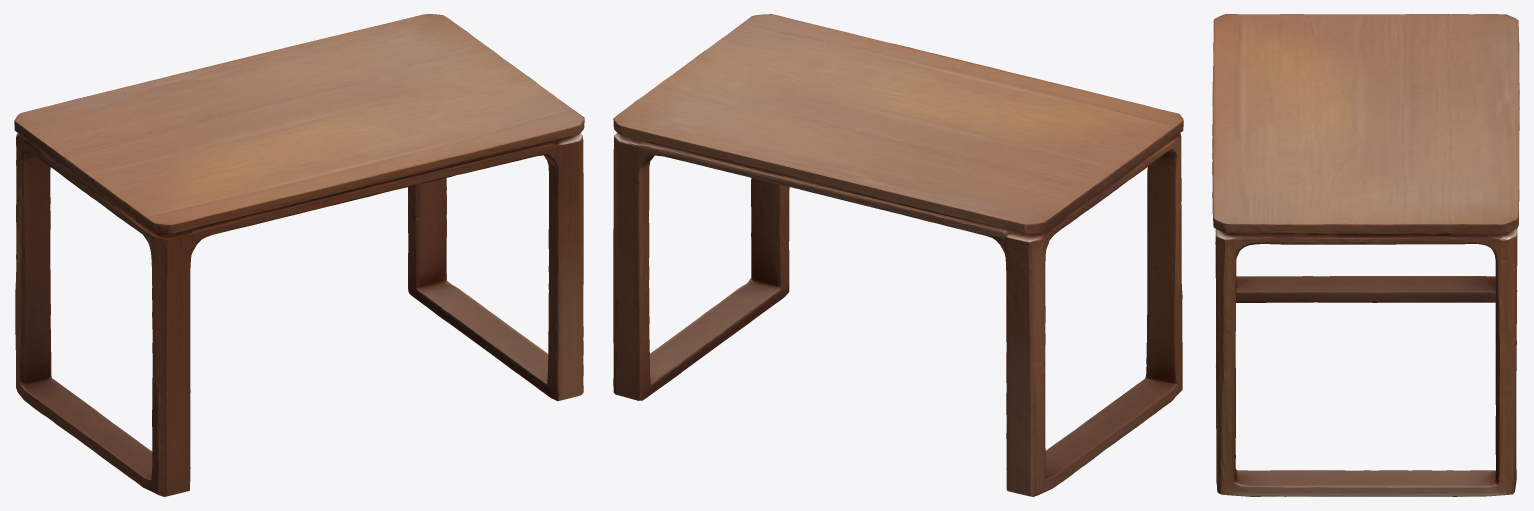
Rendered from ast_9e221dde2c78.glb.
3 views of the same model, side by side, from view 1: azimuth 30°, elevation 25°; view 2: azimuth 150°, elevation 25°; view 3: azimuth 270°, elevation 25° (orthographic).
Parts seen in each view (by area): view 1: geometry_0; view 2: geometry_0; view 3: geometry_0.
Part boxes in pixels (left/top/right/bottom): geometry_0: left=14, top=14, right=584, bottom=496; geometry_0: left=613, top=14, right=1183, bottom=496; geometry_0: left=1212, top=14, right=1519, bottom=496.
Size of the model in its own units: 1 by 0.6067 by 0.6177.
Materials: 1 (1 with a texture image).
